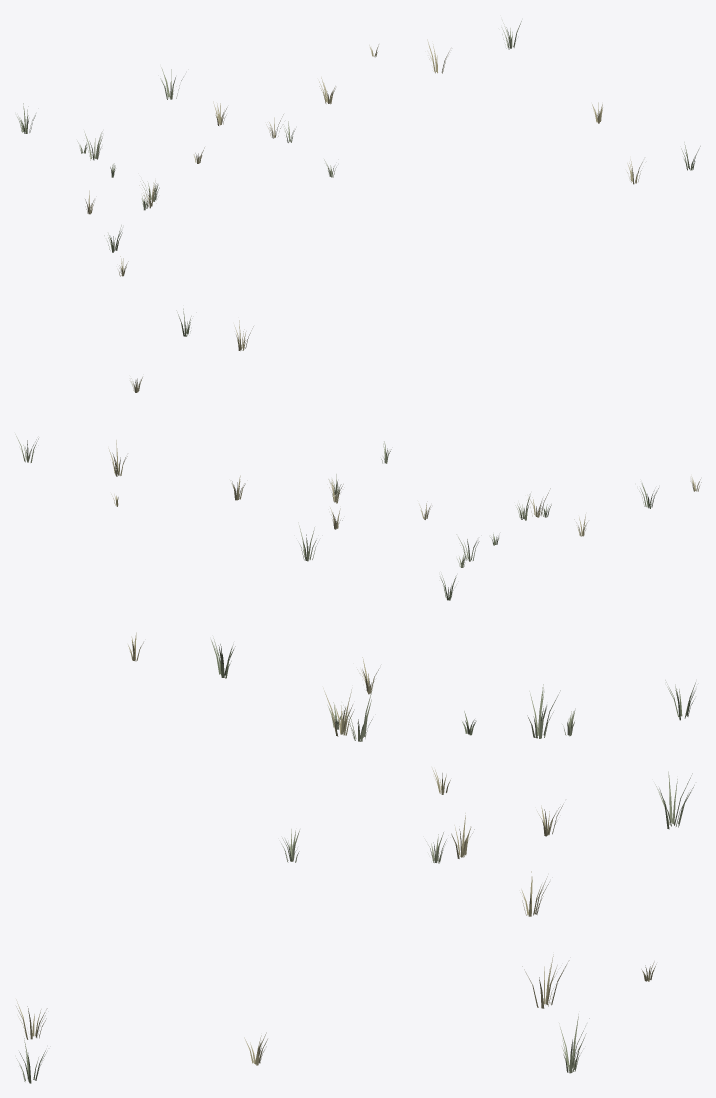
Rendered from AE_Grass_-3_2.fbx.
3 views of the same model, one above another, from view 1: azimuth 30°, elevation 25°; view 2: azimuth 150°, elevation 25°; view 3: azimuth 270°, elevation 25° (orthographic). The views are drawn at different scales.
Visible parts, largest first — view 1: AE_Grass_-3_2_LOD0; view 2: AE_Grass_-3_2_LOD0; view 3: AE_Grass_-3_2_LOD0.
Part boxes in pixels (x1,y1,x2,y2): AE_Grass_-3_2_LOD0: (17,20,700,276); AE_Grass_-3_2_LOD0: (15,308,701,600); AE_Grass_-3_2_LOD0: (16,632,695,1083).
Size of what is drawn, in the model's own units: 1731 by 107 by 1159.
